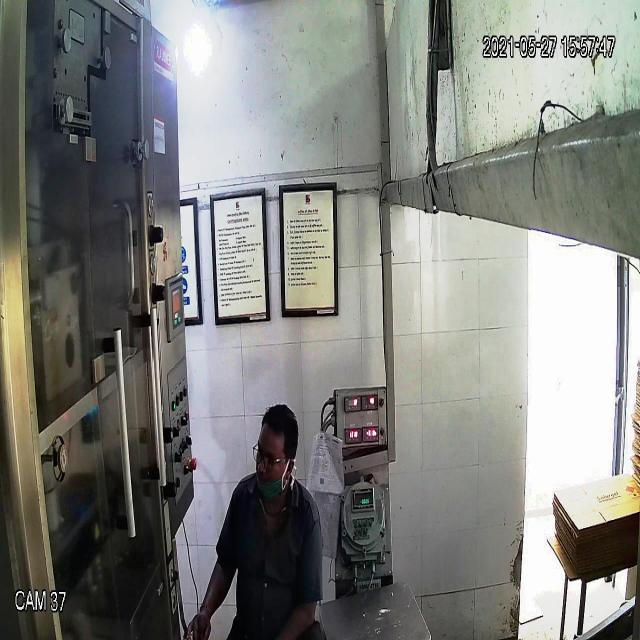glasses: (250, 438, 296, 476)
